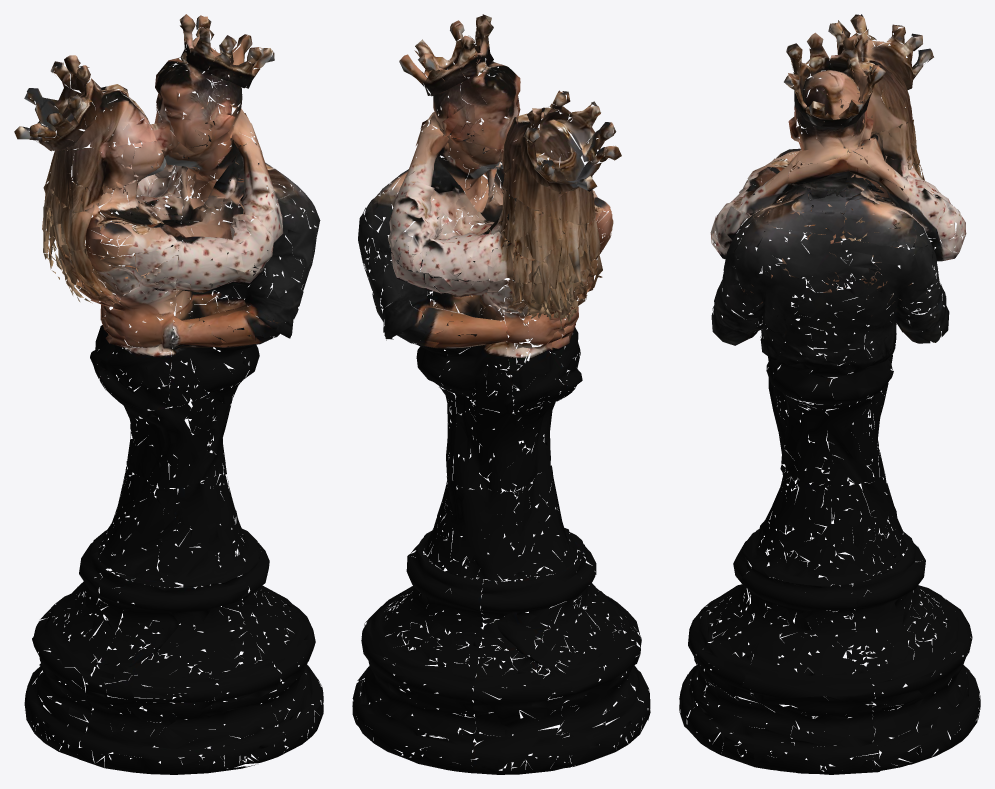
File: queen_black.glb
The picture shows the model from 3 angles, left to right: view 1: azimuth 30°, elevation 25°; view 2: azimuth 150°, elevation 25°; view 3: azimuth 270°, elevation 25°; orthographic projection.
Parts seen in each view (by area): view 1: tripo_node_e6546c42-dc67-46bc-a615-a479dc0392c7; view 2: tripo_node_e6546c42-dc67-46bc-a615-a479dc0392c7; view 3: tripo_node_e6546c42-dc67-46bc-a615-a479dc0392c7.
Boxes of the visible parts, box(x1,y1,x2,y2) form: tripo_node_e6546c42-dc67-46bc-a615-a479dc0392c7: box(14, 14, 323, 774); tripo_node_e6546c42-dc67-46bc-a615-a479dc0392c7: box(352, 14, 650, 774); tripo_node_e6546c42-dc67-46bc-a615-a479dc0392c7: box(679, 14, 980, 774).
Bounding box in the file's own units: 0.3941 × 1 × 0.39.
1 material, 1 textured.
